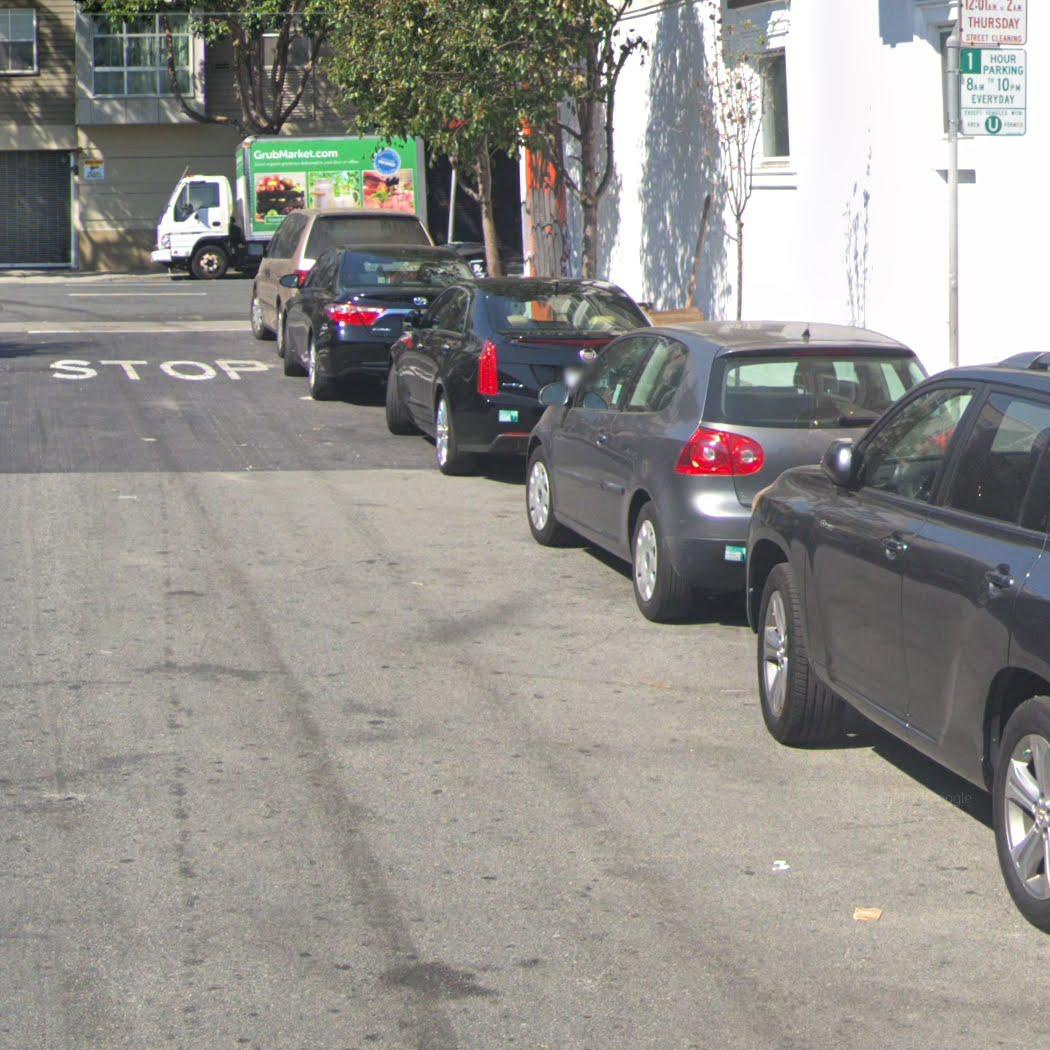1 Hour Parking: (958, 47, 1028, 138)
No Parking: (956, 0, 1029, 48)
